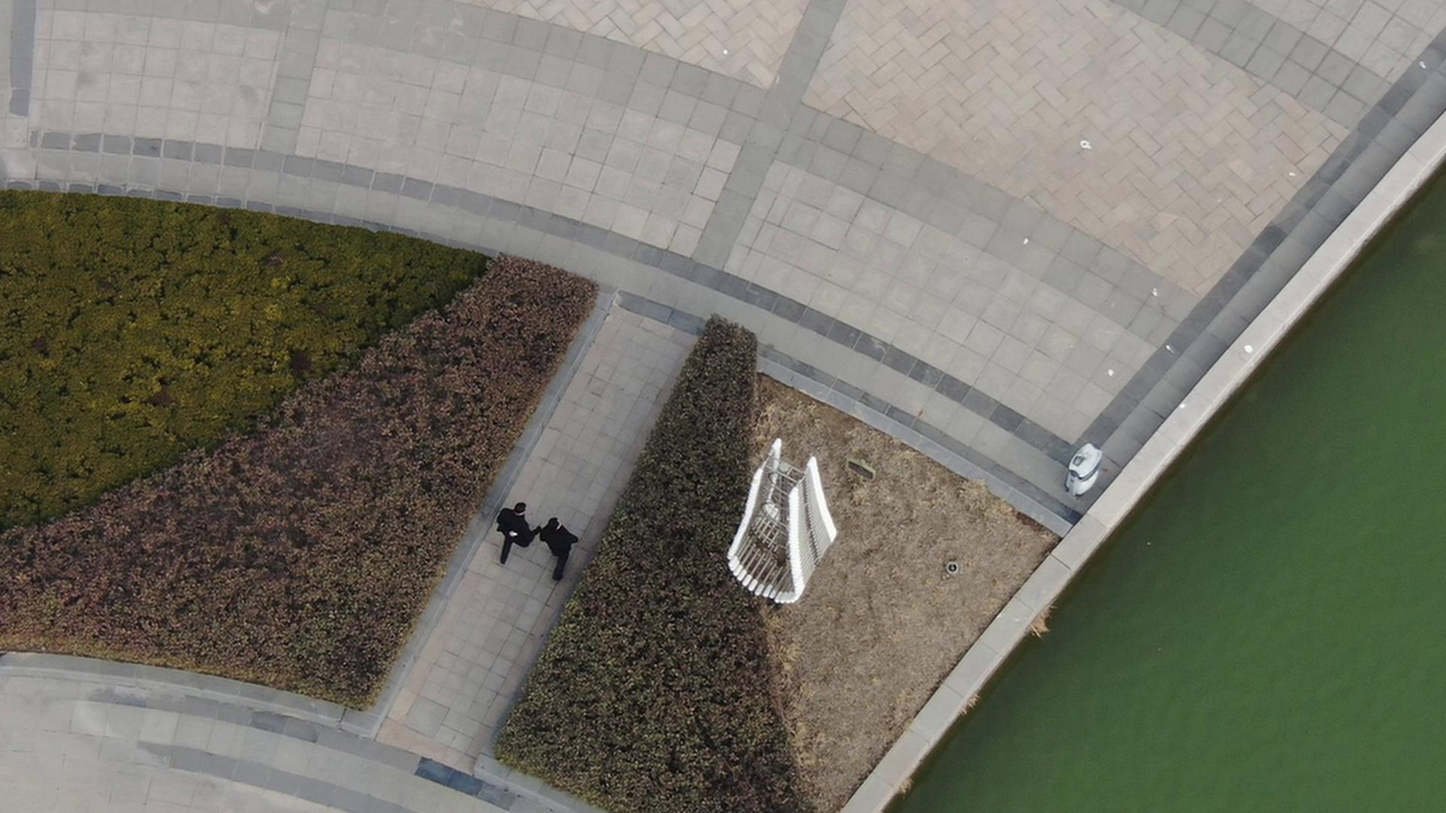human: (535, 504, 581, 574), (487, 492, 529, 562)
